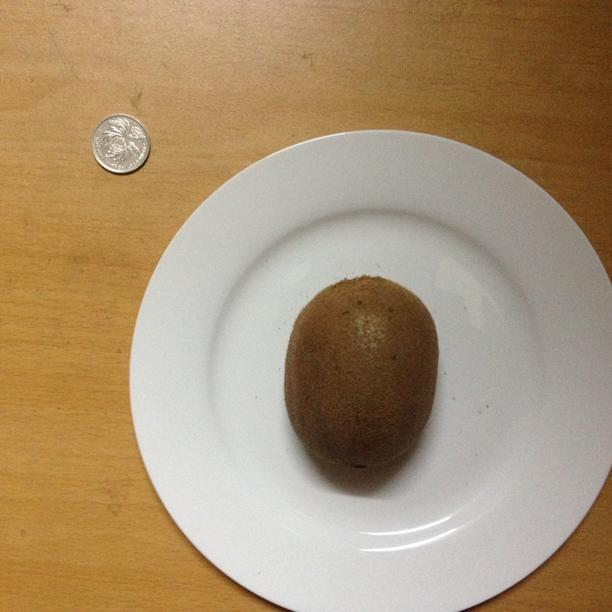coin: (94, 114, 148, 171)
qiwi: (286, 276, 438, 471)
